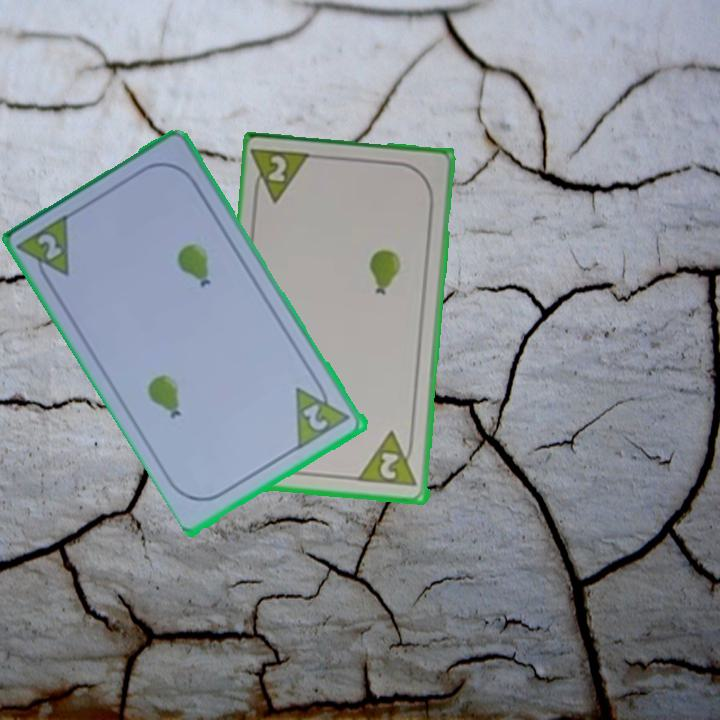2p: (15, 210, 74, 291), (250, 145, 316, 207), (300, 400, 332, 434), (377, 448, 402, 482)
